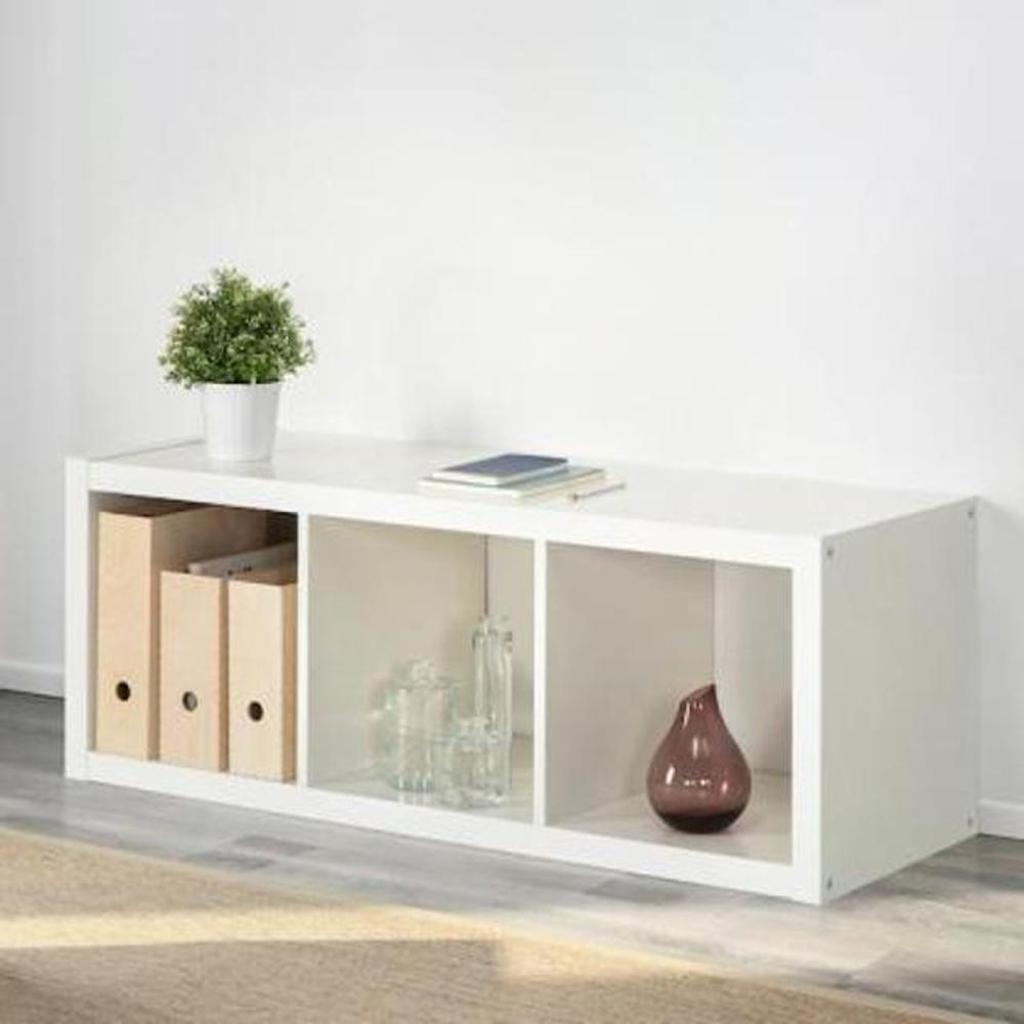lamp: (60, 422, 983, 912)
